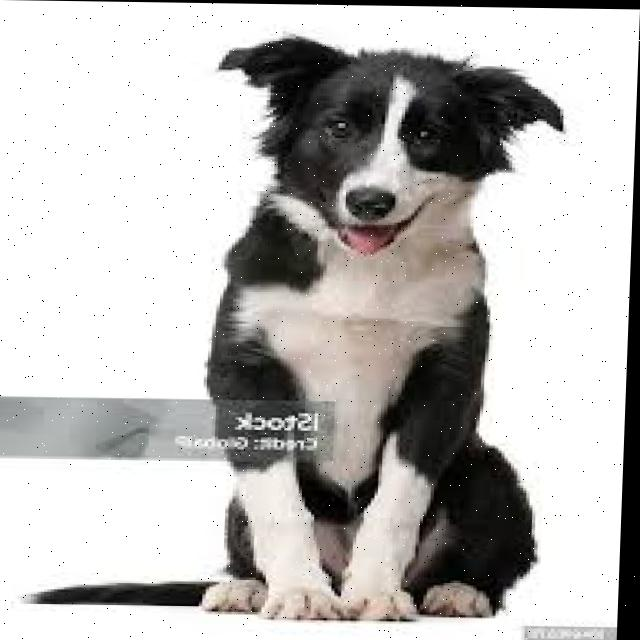ALASKAN_MALAMUTE: (10, 8, 589, 624)
